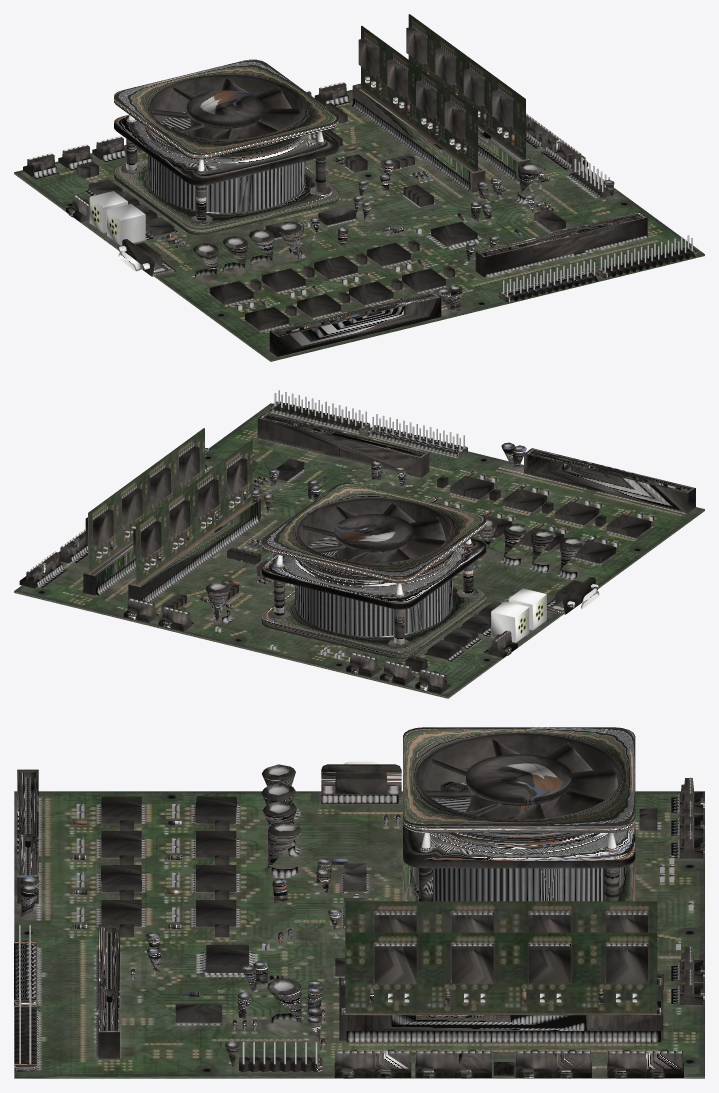
File: circuit_board.glb
3 views of the same model, one above another, from view 1: azimuth 30°, elevation 25°; view 2: azimuth 150°, elevation 25°; view 3: azimuth 270°, elevation 25° (orthographic). The views are drawn at different scales.
Visible parts, largest first — view 1: circuit_board; view 2: circuit_board; view 3: circuit_board.
Part boxes in pixels (<box>): circuit_board: <box>14,14,704,361</box>; circuit_board: <box>14,390,704,698</box>; circuit_board: <box>14,727,704,1078</box>.
Size of the model in its own units: 0.4035 by 0.0775 by 0.3974.
Materials: 2 (2 with a texture image).
